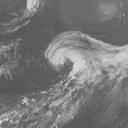cyclone: (45, 30, 101, 78)
